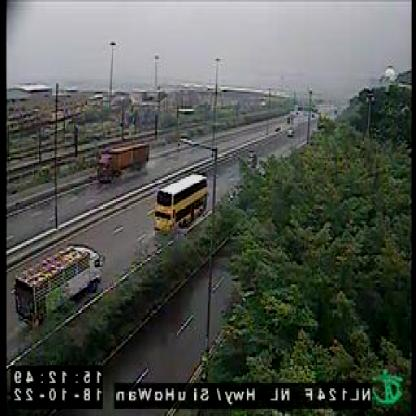Bus: (155, 173, 208, 235)
Truck: (11, 244, 104, 332), (96, 139, 148, 187)
